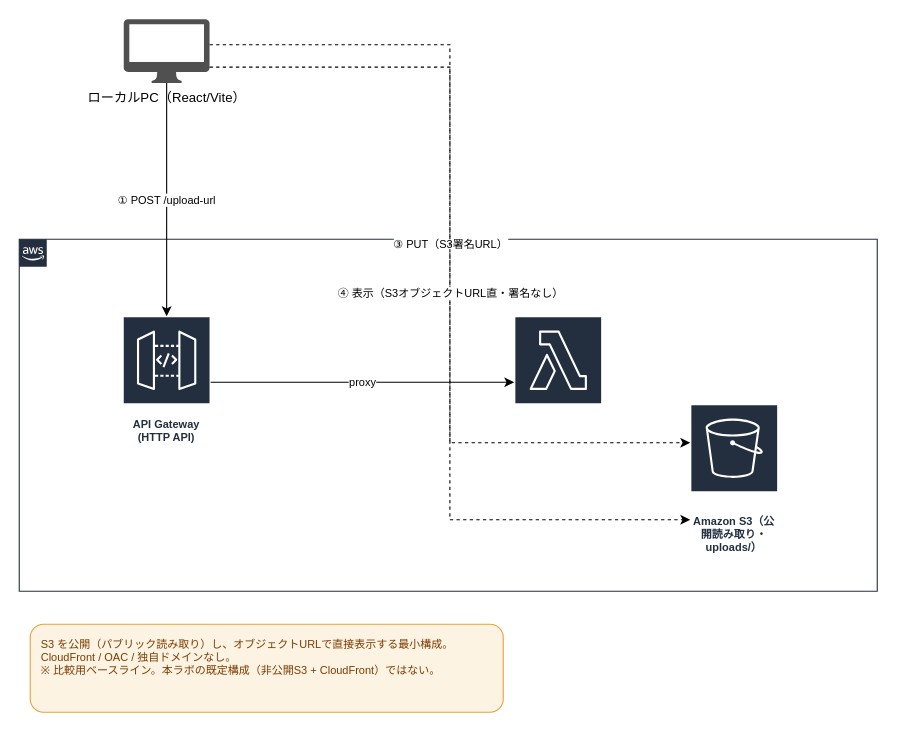
This 897x732 diagram has some shape labels left out. Each missing label, with the box of its shape:
AWS Cloud（S3のみ・最小構成 / dev 027204872496）: (18, 238, 877, 591)
AWS Lambda（署名URL生成）: (513, 315, 602, 448)
